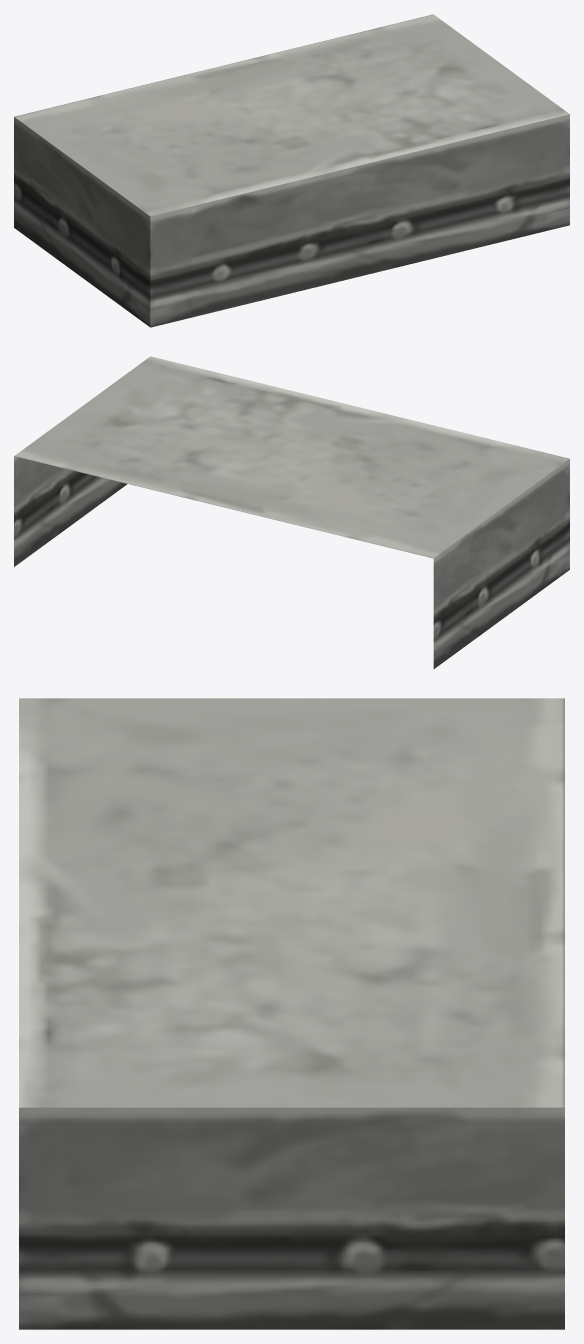
Rendered from unity_dungeon_temple02.FBX.
3 renders of one model, top to bottom at view 1: azimuth 30°, elevation 25°; view 2: azimuth 150°, elevation 25°; view 3: azimuth 270°, elevation 25°, orthographic. The views are drawn at different scales.
Parts seen in each view (by area): view 1: unity_dungeon_temple02; view 2: unity_dungeon_temple02; view 3: unity_dungeon_temple02.
Boxes of the visible parts, x1=… form: unity_dungeon_temple02: x1=14, y1=14, x2=569, y2=327; unity_dungeon_temple02: x1=14, y1=356, x2=569, y2=668; unity_dungeon_temple02: x1=19, y1=698, x2=564, y2=1329.
Bounding box in the file's own units: 4.02 × 1.02 × 2.27.
